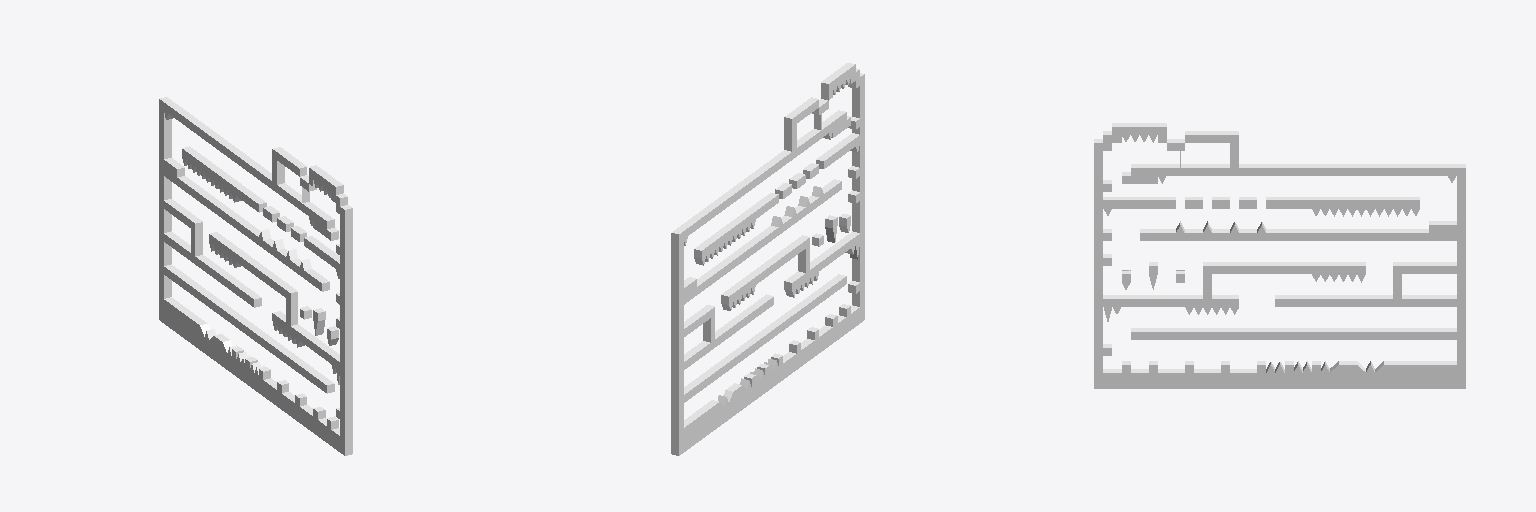
The model's file is Level1.obj.
The picture shows the model from 3 angles: view 1: azimuth 30°, elevation 25°; view 2: azimuth 150°, elevation 25°; view 3: azimuth 270°, elevation 25°; orthographic projection.
Parts seen in each view (by area): view 1: Level1; view 2: Level1; view 3: Level1.
Boxes of the visible parts, box(x1,y1,x2,y2) form: Level1: box(159, 97, 352, 455); Level1: box(671, 63, 864, 455); Level1: box(1094, 123, 1465, 388).
Bounding box in the file's own units: 1 × 32 × 41.